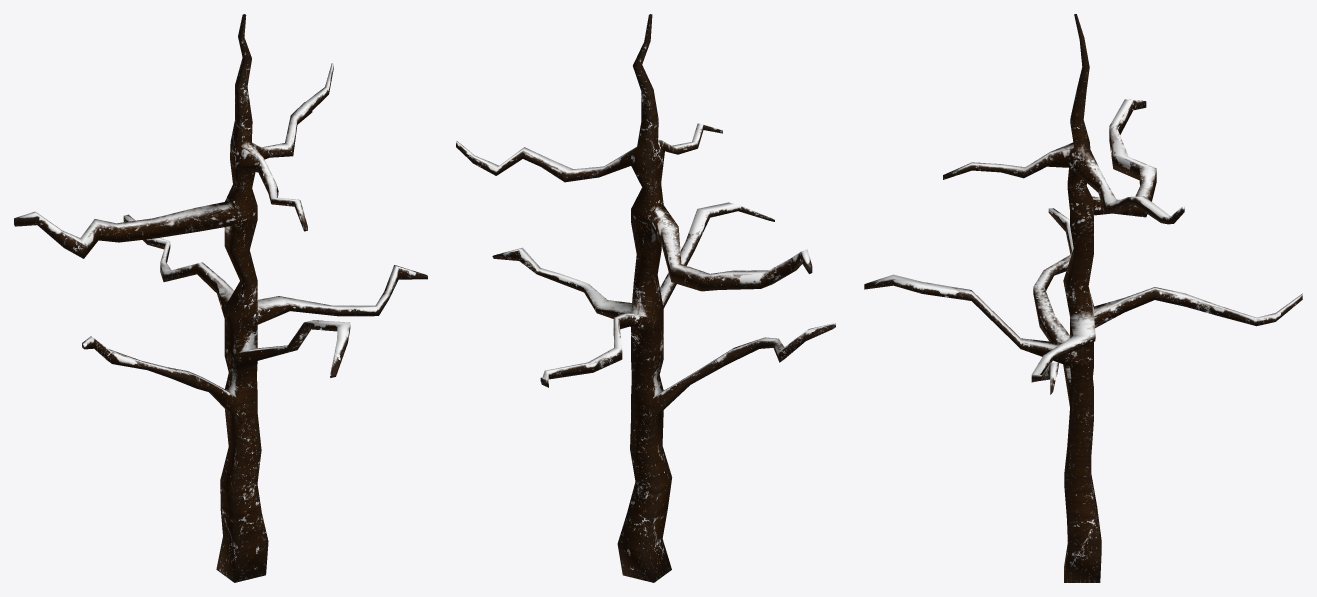
The model's file is tree01.fbx.
3 renders of one model, left to right at view 1: azimuth 30°, elevation 25°; view 2: azimuth 150°, elevation 25°; view 3: azimuth 270°, elevation 25°, orthographic.
Parts seen in each view (by area): view 1: Box001; view 2: Box001; view 3: Box001.
Boxes of the visible parts, bbox=[...] form: Box001: bbox=[14, 14, 427, 582]; Box001: bbox=[456, 14, 835, 582]; Box001: bbox=[864, 14, 1302, 582].
Size of the model in its own units: 39.62 by 57.77 by 40.91.
